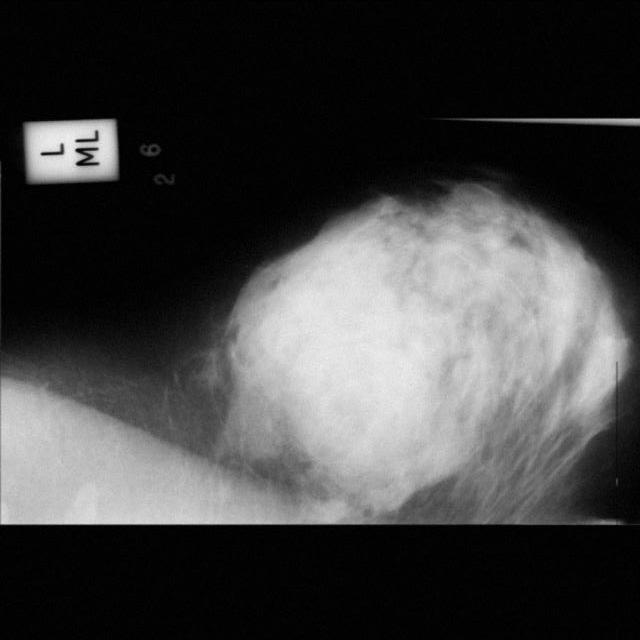ARCH: (381, 213, 443, 276)
